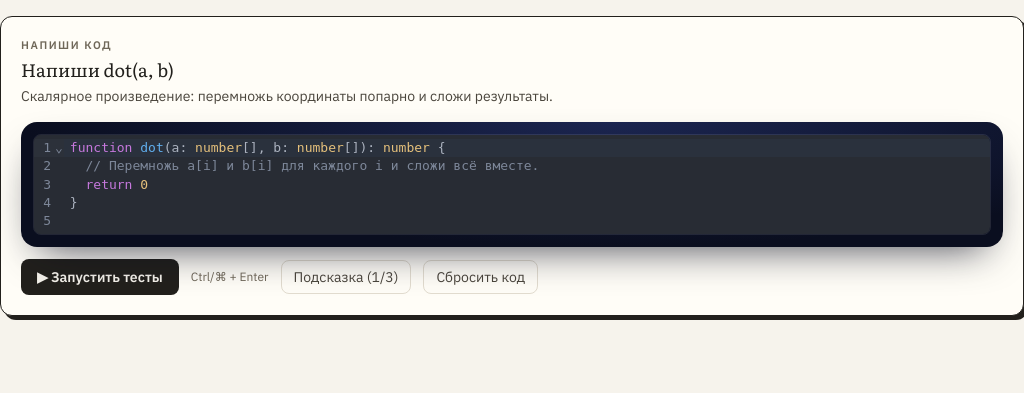
Test case: CodeExercise › recovers when the runner rejects: shows an error and re-enables the button
Click the button "▶ Запустить тесты".
click(100, 277)  # box [21,259,179,295]
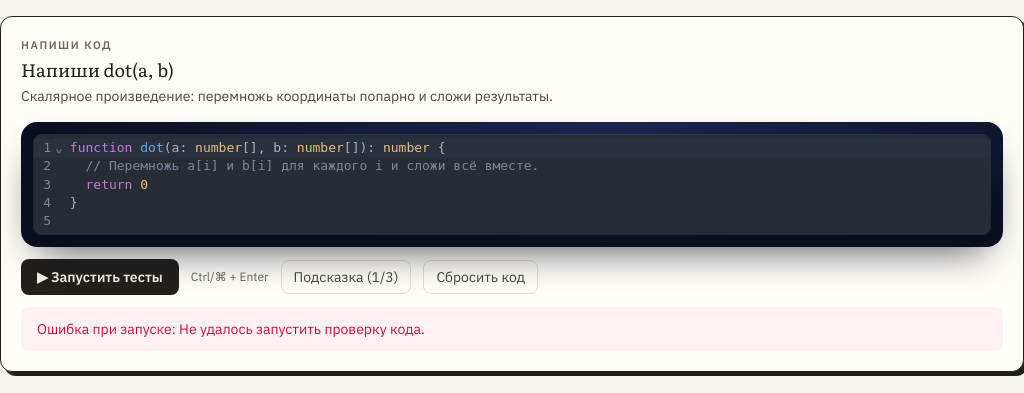
expect the text "Ошибка при запуске: Не удалось запустить проверку кода." is shown: met, box [21,307,1003,351]
